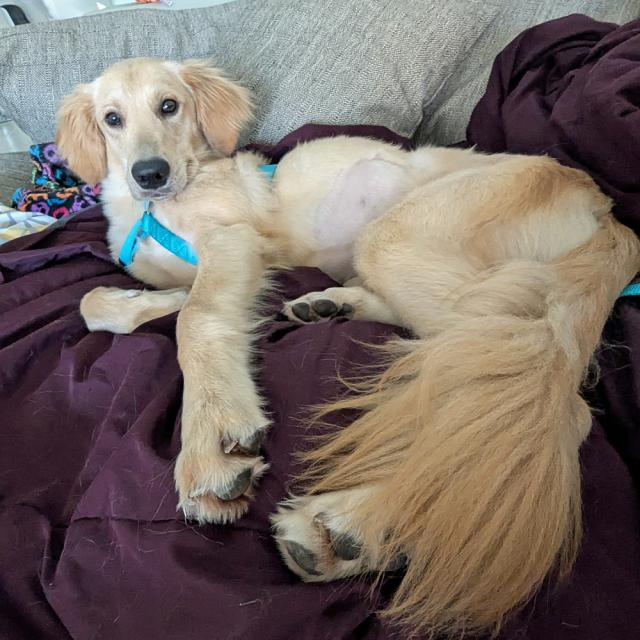golden_retriever_dog: (45, 40, 264, 218)
